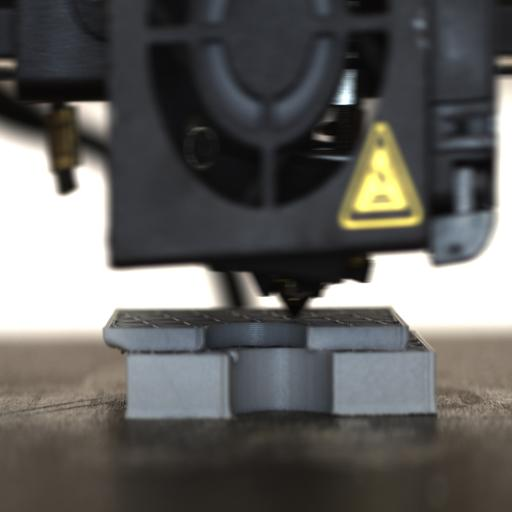layer_shift: (104, 339, 437, 360)
